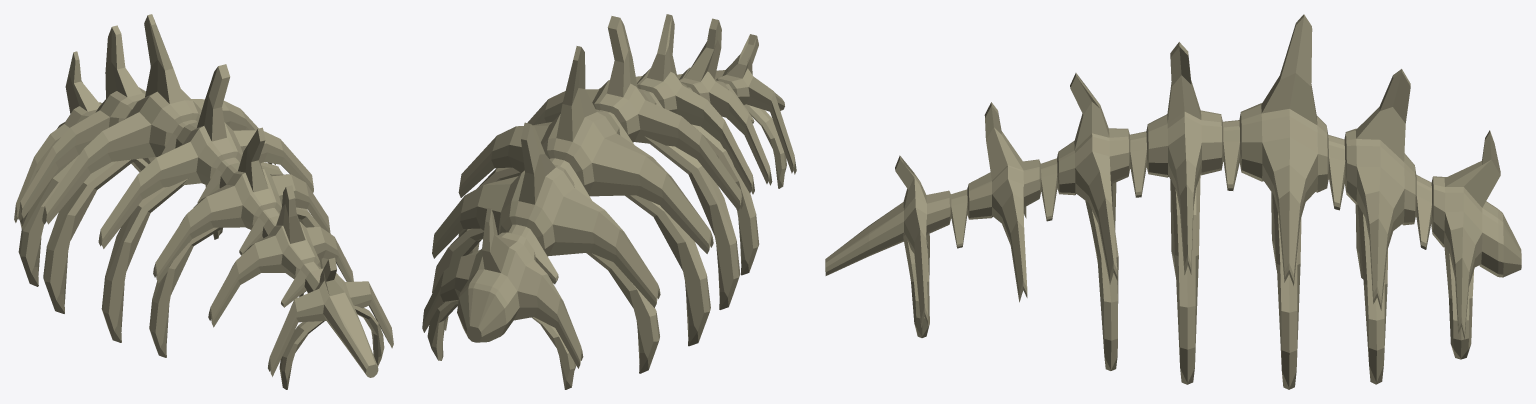
Rendered from dragons_big_ribs.fbx.
The picture shows the model from 3 angles, left to right: view 1: azimuth 30°, elevation 25°; view 2: azimuth 150°, elevation 25°; view 3: azimuth 270°, elevation 25°; orthographic projection. The views are drawn at different scales.
Visible parts, largest first — view 1: Cylinder.007; view 2: Cylinder.007; view 3: Cylinder.007.
Boxes of the visible parts, box(x1,y1,x2,y2) form: Cylinder.007: box(14, 14, 393, 389); Cylinder.007: box(422, 14, 796, 389); Cylinder.007: box(825, 14, 1521, 389).
Size of the model in its own units: 1353 by 1472 by 2947.
